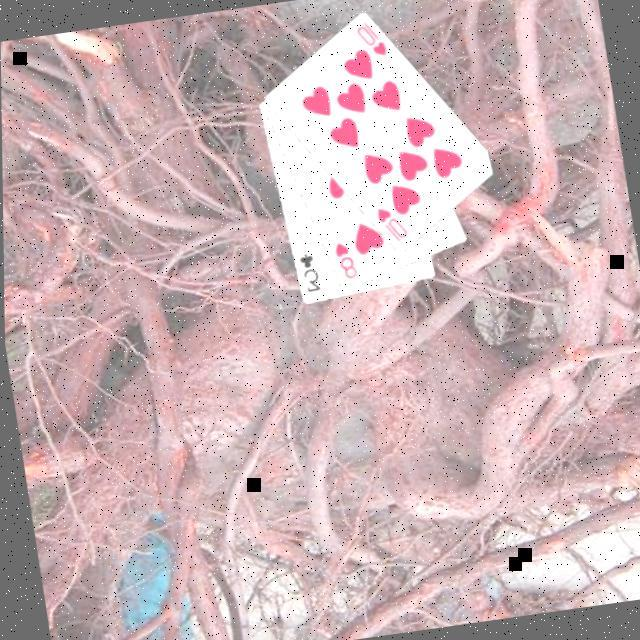10H: (350, 19, 391, 65), (371, 204, 411, 250)
3C: (293, 251, 323, 299)
8H: (329, 239, 360, 286)
